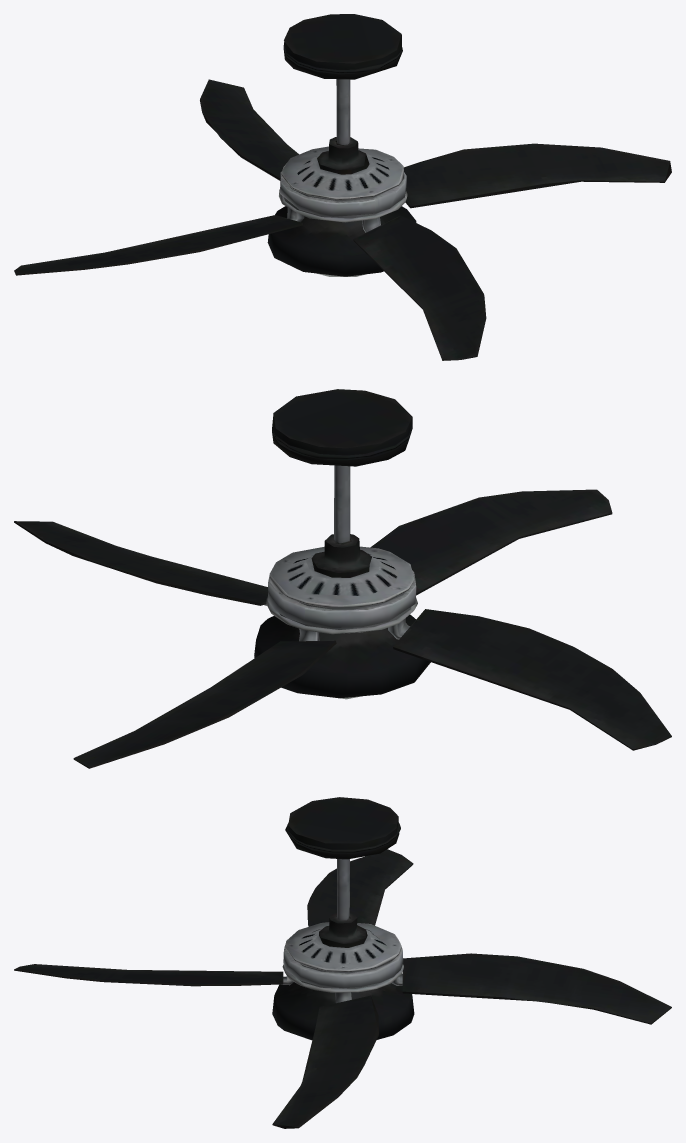
The model's file is ceiling_fan.glb.
3 renders of one model, top to bottom at view 1: azimuth 30°, elevation 25°; view 2: azimuth 150°, elevation 25°; view 3: azimuth 270°, elevation 25°, orthographic. The views are drawn at different scales.
Visible parts, largest first — view 1: ceiling_fan; view 2: ceiling_fan; view 3: ceiling_fan.
Part boxes in pixels (box(x1,y1,x2,y2)): ceiling_fan: box(14, 14, 671, 360); ceiling_fan: box(14, 389, 671, 768); ceiling_fan: box(14, 797, 671, 1128).
Bounding box in the file's own units: 1.46 × 0.5137 × 1.46.
1 material, 1 textured.
